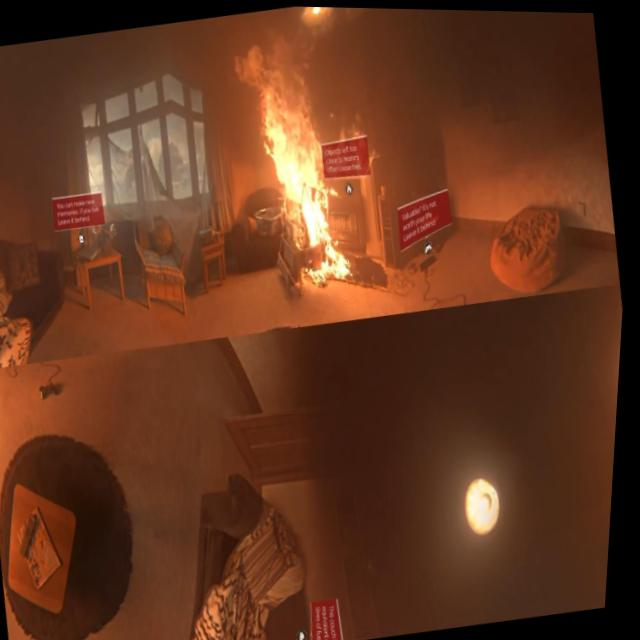fire: (246, 59, 368, 293)
